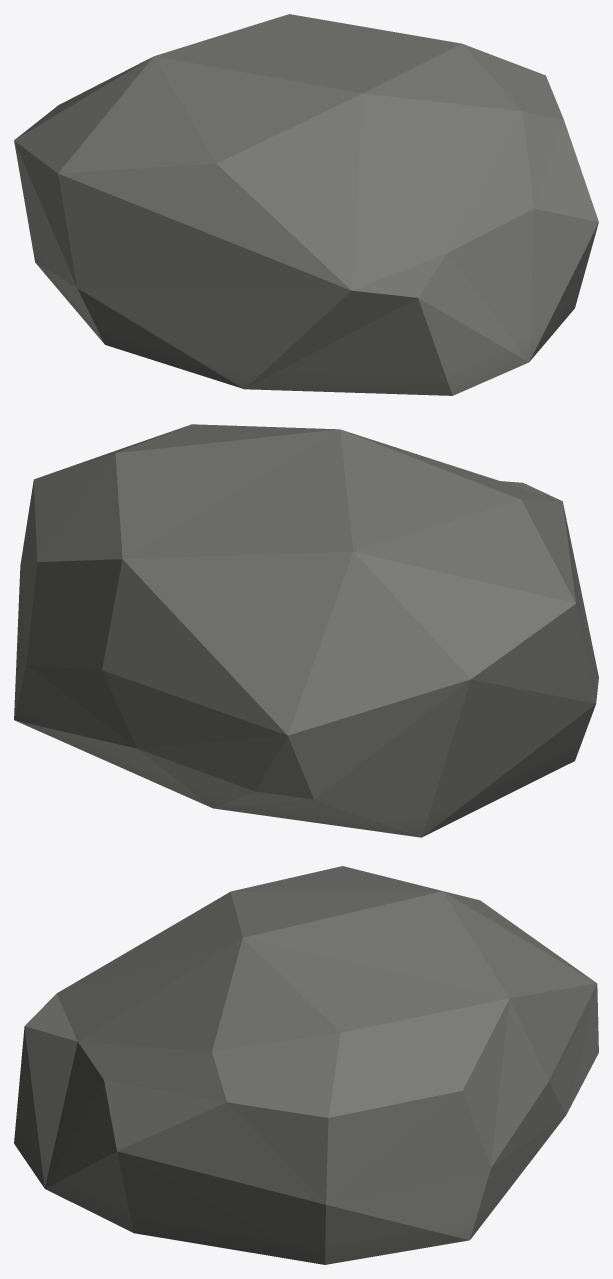
The model's file is um_rock005.FBX.
The picture shows the model from 3 angles, top to bottom: view 1: azimuth 30°, elevation 25°; view 2: azimuth 150°, elevation 25°; view 3: azimuth 270°, elevation 25°; orthographic projection. The views are drawn at different scales.
Visible parts, largest first — view 1: um_rock005; view 2: um_rock005; view 3: um_rock005.
Part boxes in pixels (x1,y1,x2,y2): um_rock005: [14, 14, 598, 395]; um_rock005: [14, 424, 598, 837]; um_rock005: [14, 866, 598, 1264].
Size of the model in its own units: 0.8014 by 0.3323 by 0.8114.
